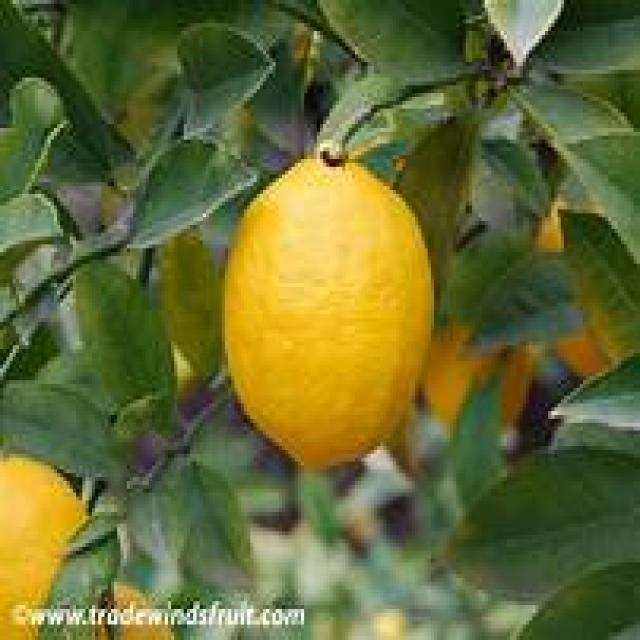Lemon: (222, 142, 438, 475)
